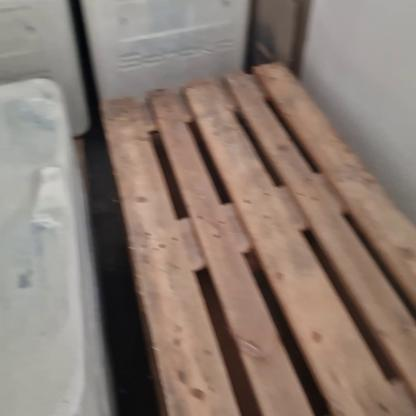BoxFace: (96, 57, 416, 416)
